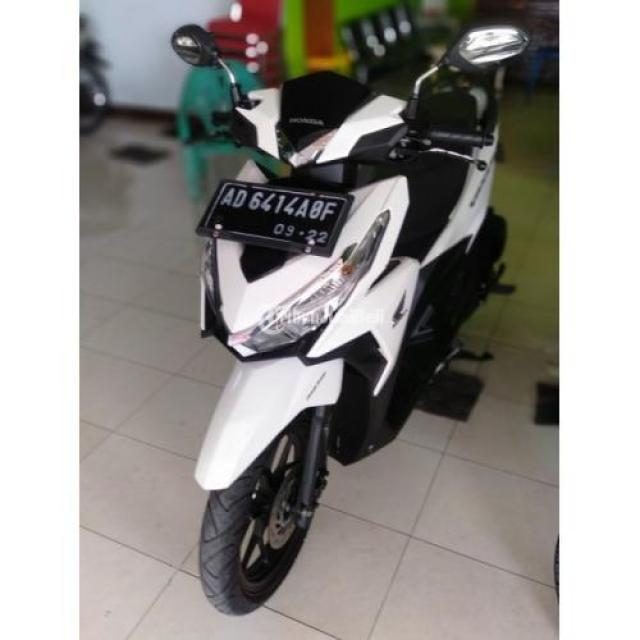plate: (220, 179, 339, 252)
